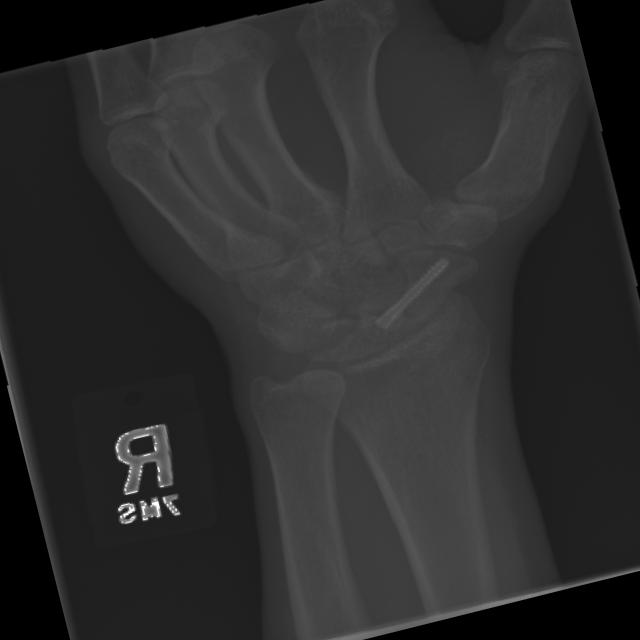wrist positive: (265, 307, 412, 391)
